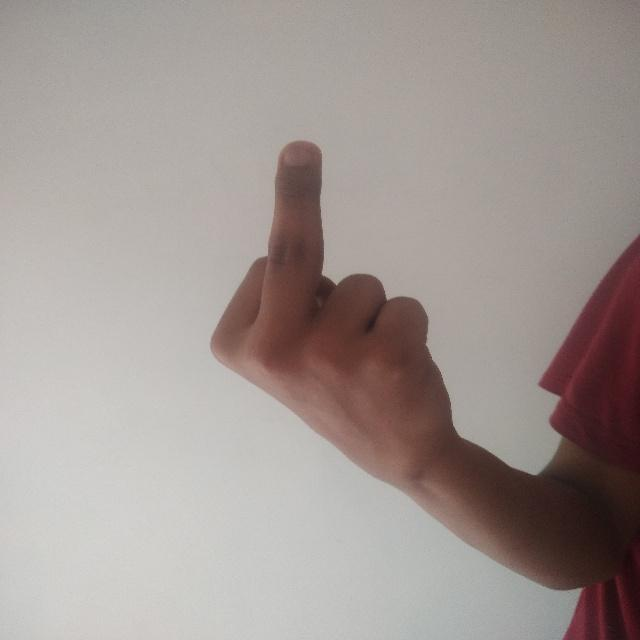Middle Finger: (206, 136, 476, 500)
